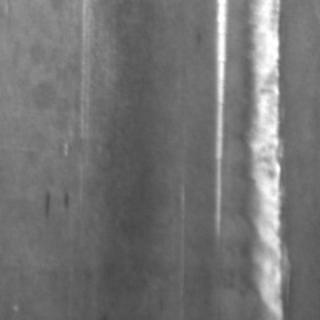scratches: (237, 0, 289, 316), (205, 0, 229, 238)
